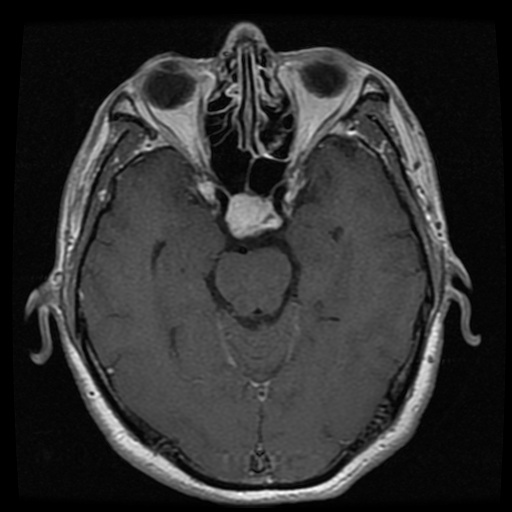meningioma: (226, 192, 284, 240)
